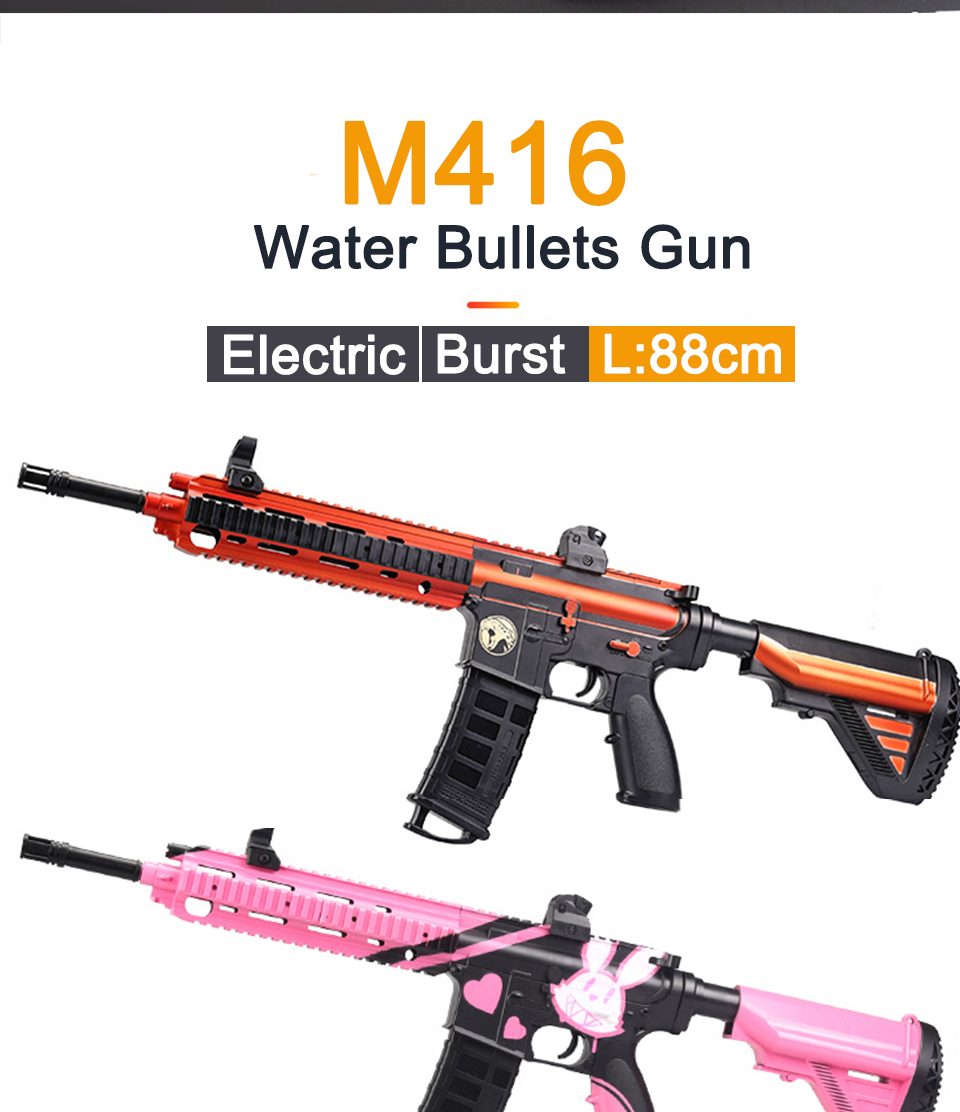Arma Falsa: (1, 433, 960, 845), (13, 824, 957, 1112)
